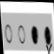correct: (29, 22, 38, 46)
no answer: (3, 20, 13, 46), (16, 23, 26, 45)
not correct: (43, 23, 52, 54)
